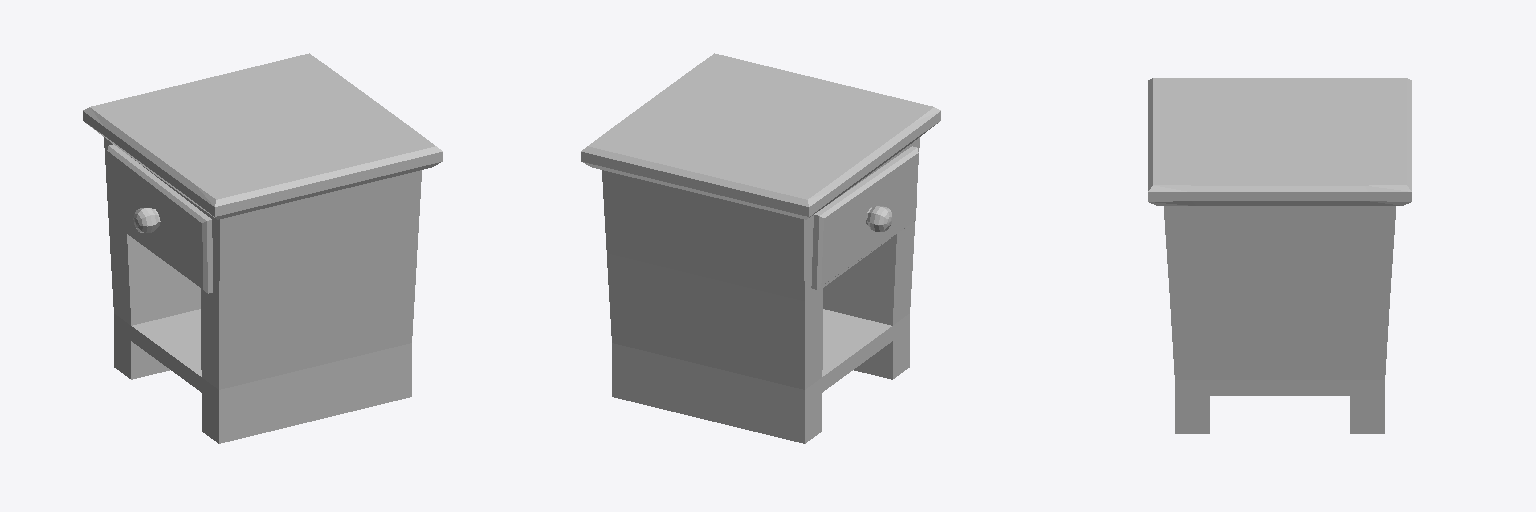
Rendered from nightstand_lp.obj.
3 renders of one model, left to right at view 1: azimuth 30°, elevation 25°; view 2: azimuth 150°, elevation 25°; view 3: azimuth 270°, elevation 25°, orthographic.
Visible parts, largest first — view 1: nightstand_low, skuff_low, nob_low; view 2: nightstand_low, skuff_low, nob_low; view 3: nightstand_low.
Boxes of the visible parts, x1,y1,x2,y2 form: nightstand_low: [83, 53, 442, 443]; skuff_low: [107, 144, 212, 293]; nob_low: [133, 208, 160, 232]; nightstand_low: [581, 53, 940, 443]; skuff_low: [811, 146, 918, 289]; nob_low: [866, 206, 892, 231]; nightstand_low: [1148, 78, 1411, 433].
Size of the model in its own units: 0.9503 by 0.9566 by 0.8956.